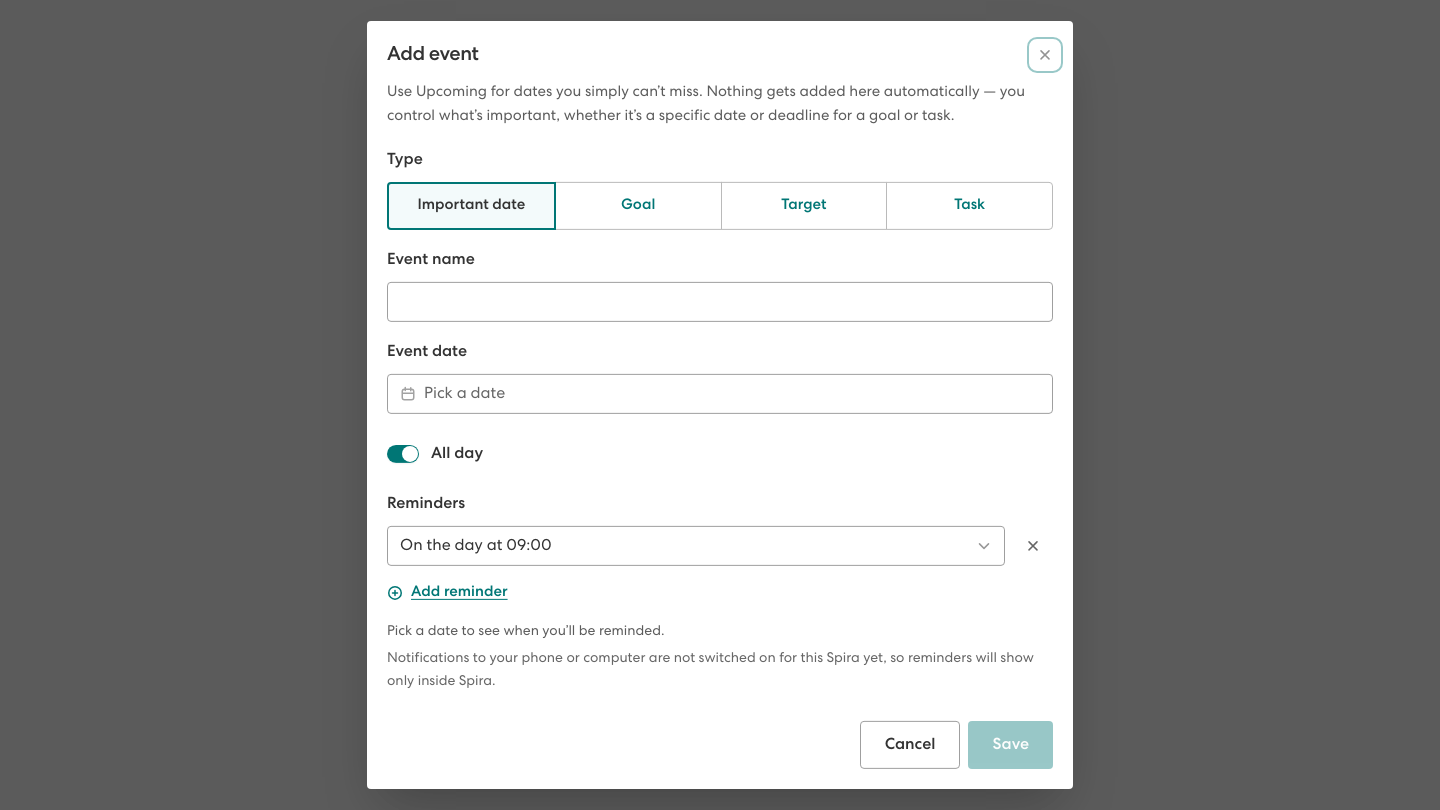
Test: AddEventDialog (laptop) › says so when there is nothing of that kind to add
Step 1. Click the radio button labelled "Target" → click(804, 206), box [720,182,887,230]
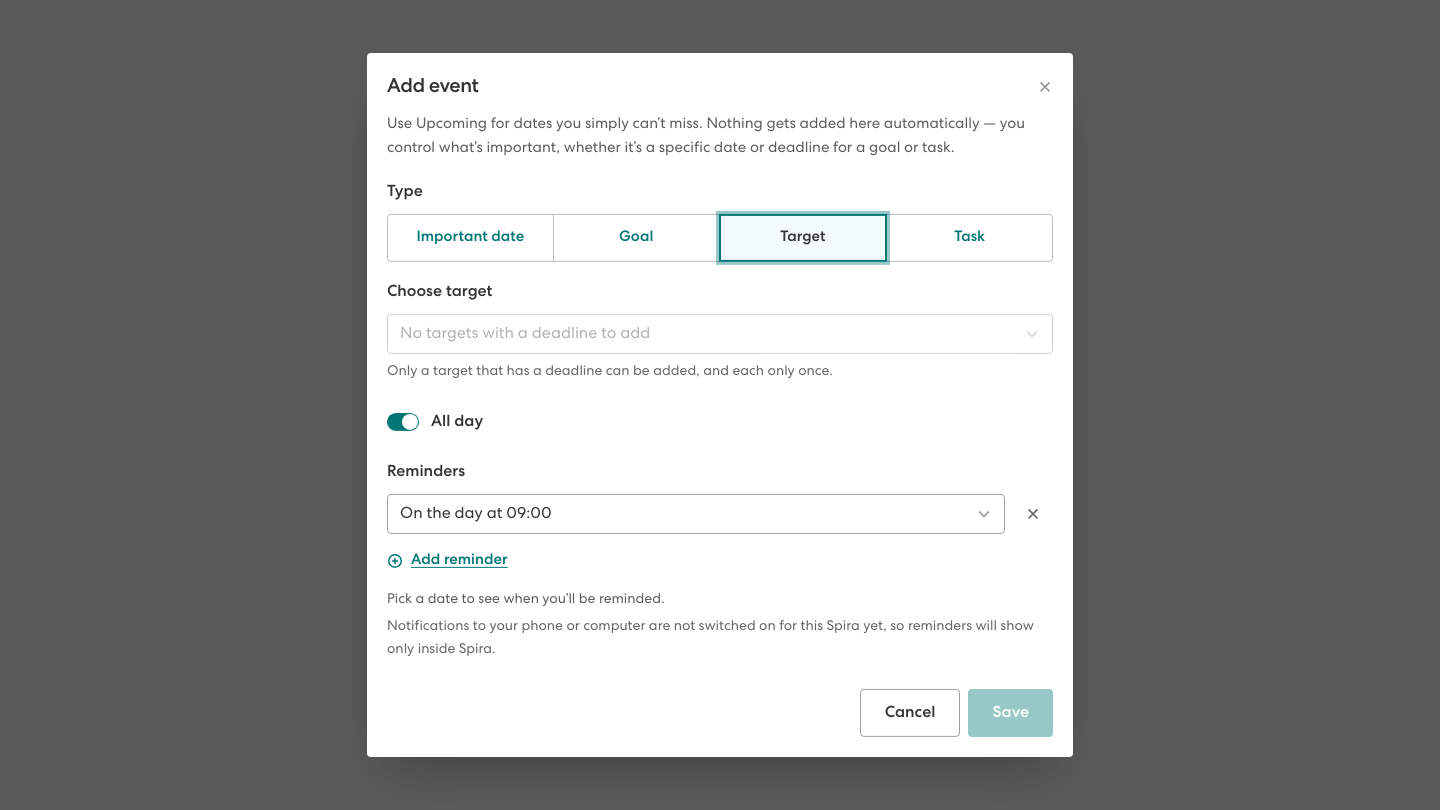
expect the button "Save" is disabled: met, box [968,689,1053,737]
expect the dropdown named "Choose target" is disabled: met, box [387,314,1053,354]
expect the dialog "Add event" shows "Only a target that has a deadline can be added, and each only once.": met, box [367,53,1073,757]
